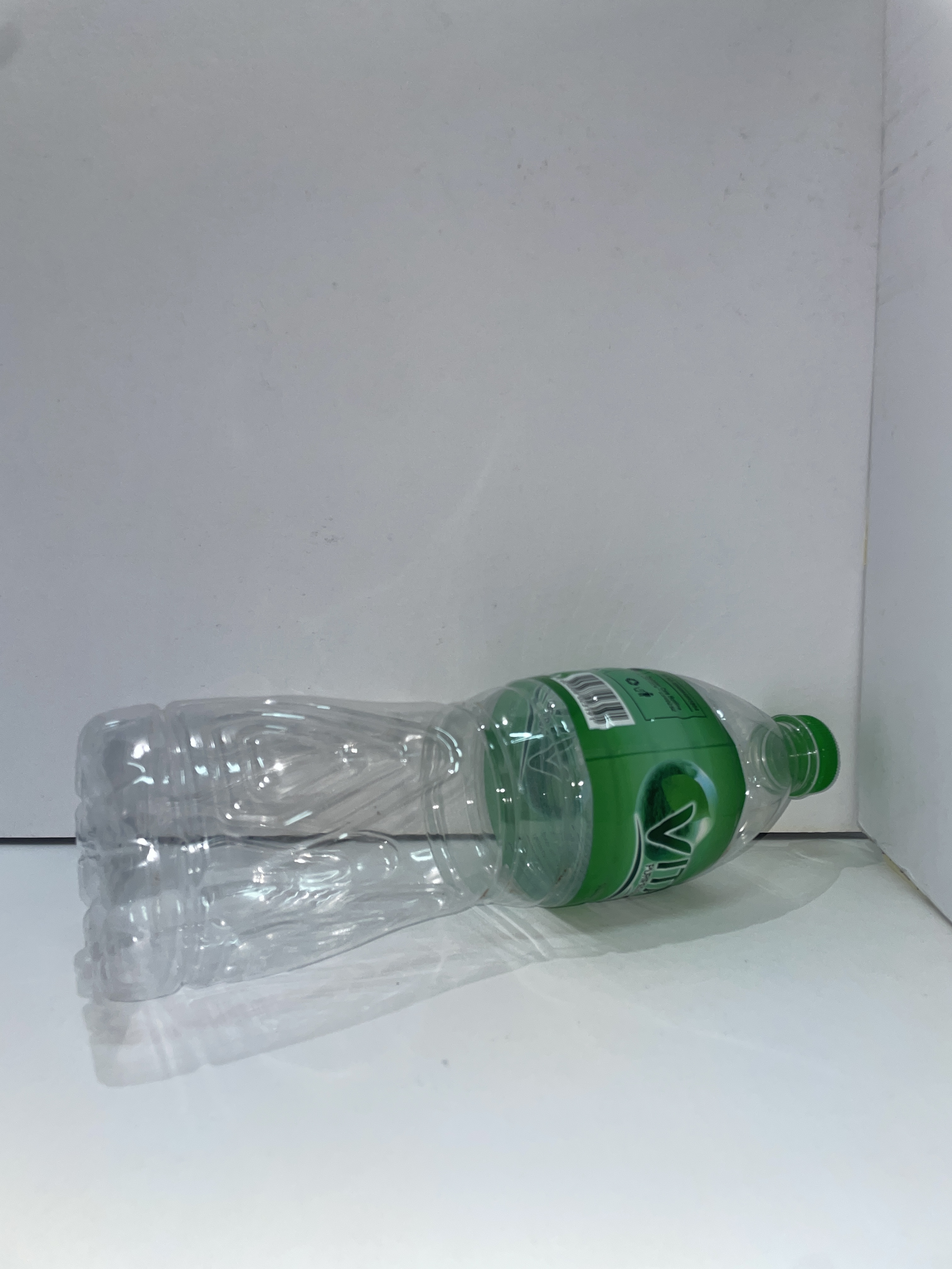Vital 1000ml: (76, 667, 839, 1002)
